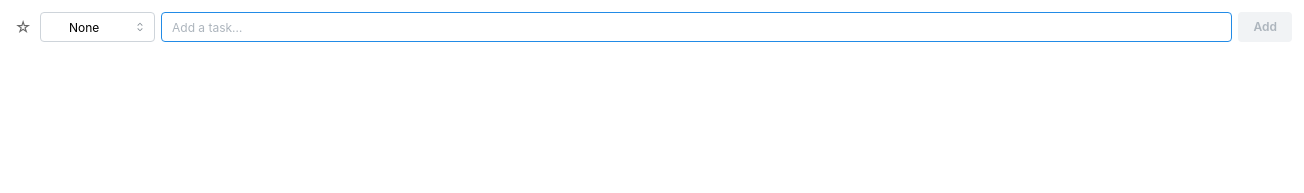
TaskQuickAdd priority › shows each priority's glyph in the options and beside the chosen value
Click the field named "New task priority". click: (98, 27)
box: [40, 12, 155, 42]
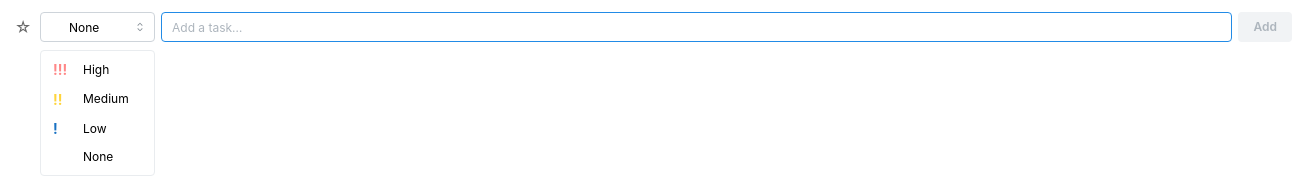
Expected: the option "!!! High" is shown
Expected: the option "!! Medium" is shown, [53, 91, 129, 108]
Click the option "!!! High". click: (81, 70)
box: [53, 61, 109, 78]
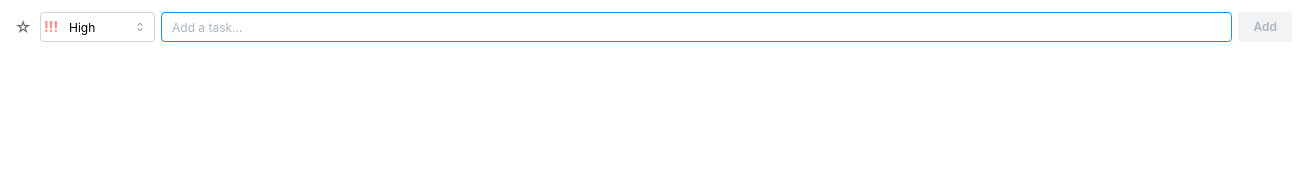
Expected: the element showing "!!!" is shown, [44, 18, 58, 35]
